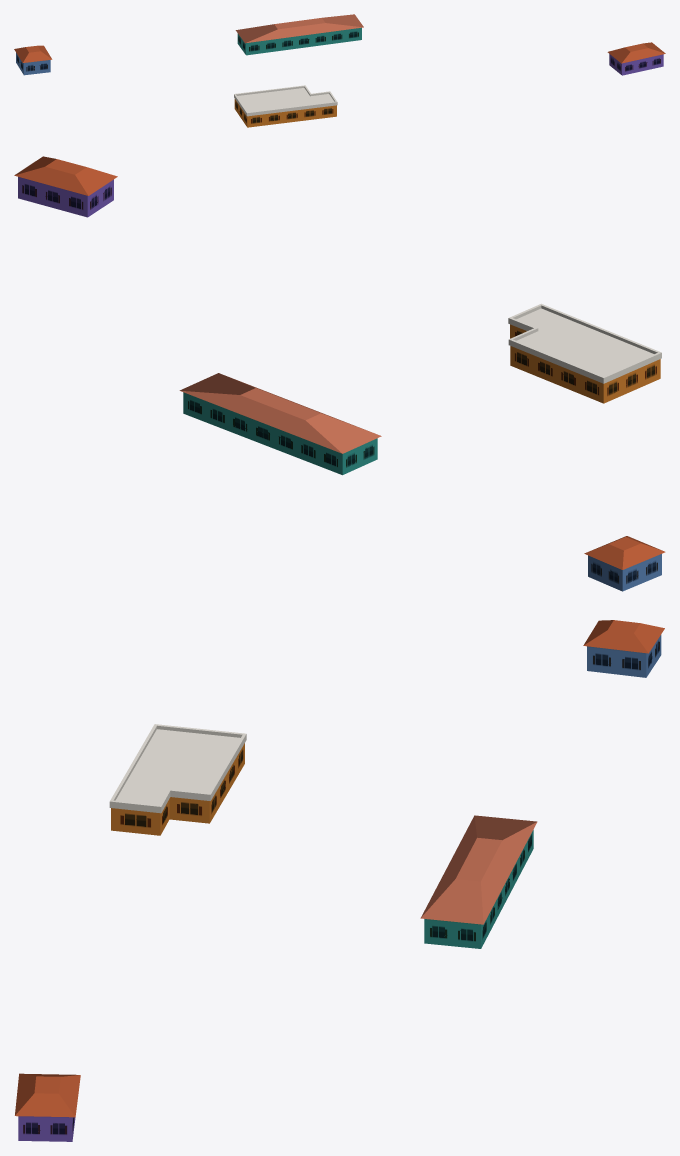
File: msb_palmbeach_m22_m9.glb
3 views of the same model, one above another, from view 1: azimuth 30°, elevation 25°; view 2: azimuth 150°, elevation 25°; view 3: azimuth 270°, elevation 25° (orthographic). The views are drawn at different scales.
Parts seen in each view (by area): view 1: msb_palmbeach_m22_m9_lod0; view 2: msb_palmbeach_m22_m9_lod0; view 3: msb_palmbeach_m22_m9_lod0.
Part boxes in pixels (left/top/right/bottom): msb_palmbeach_m22_m9_lod0: left=14, top=14, right=665, bottom=127; msb_palmbeach_m22_m9_lod0: left=14, top=156, right=665, bottom=591; msb_palmbeach_m22_m9_lod0: left=15, top=620, right=664, bottom=1141.
Size of what is drawn, in the model's own units: 140 by 6.27 by 79.11.
3 materials, 1 textured.
